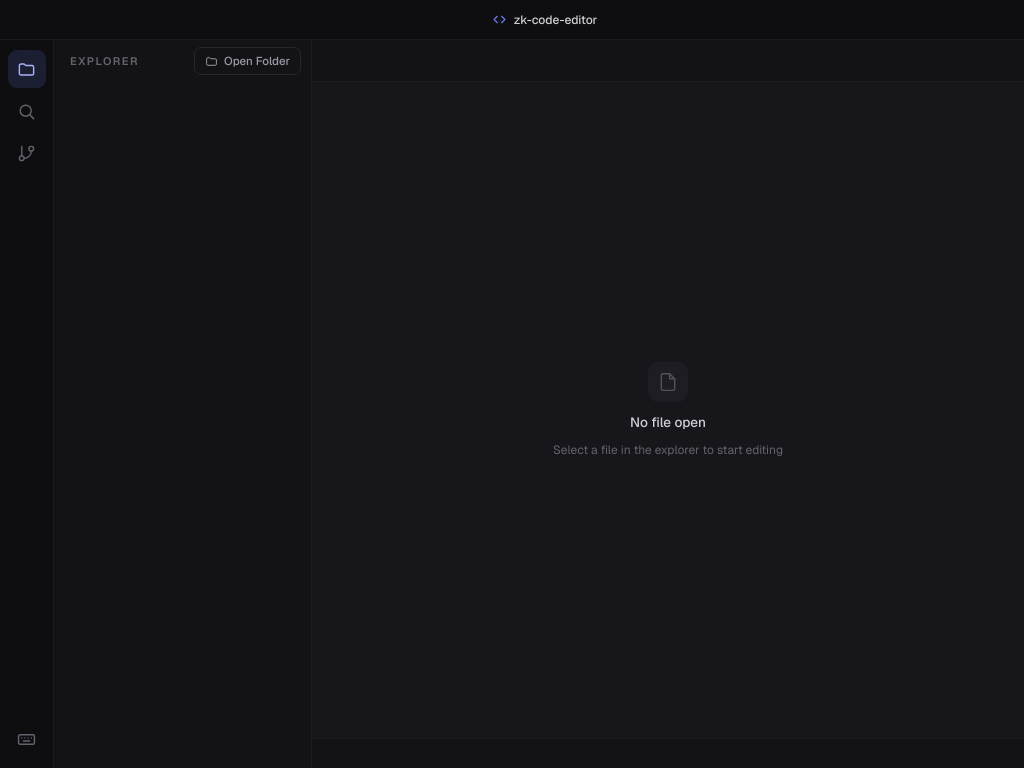
Test: App integration › shows a notice when saving fails
This screenshot has width=1024, height=768.
Step 1. Click the button "Open Folder" → (248, 61), box [194,47,301,75]
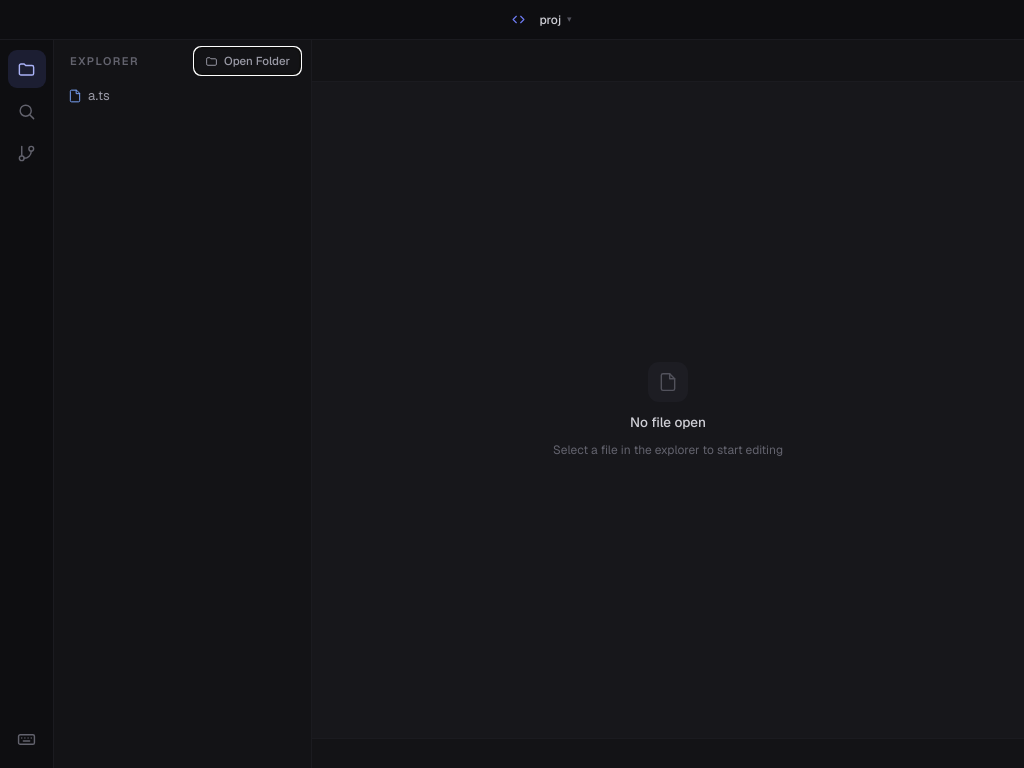
Step 2. Click the text "a.ts" → (99, 96), box [88,86,110,105]
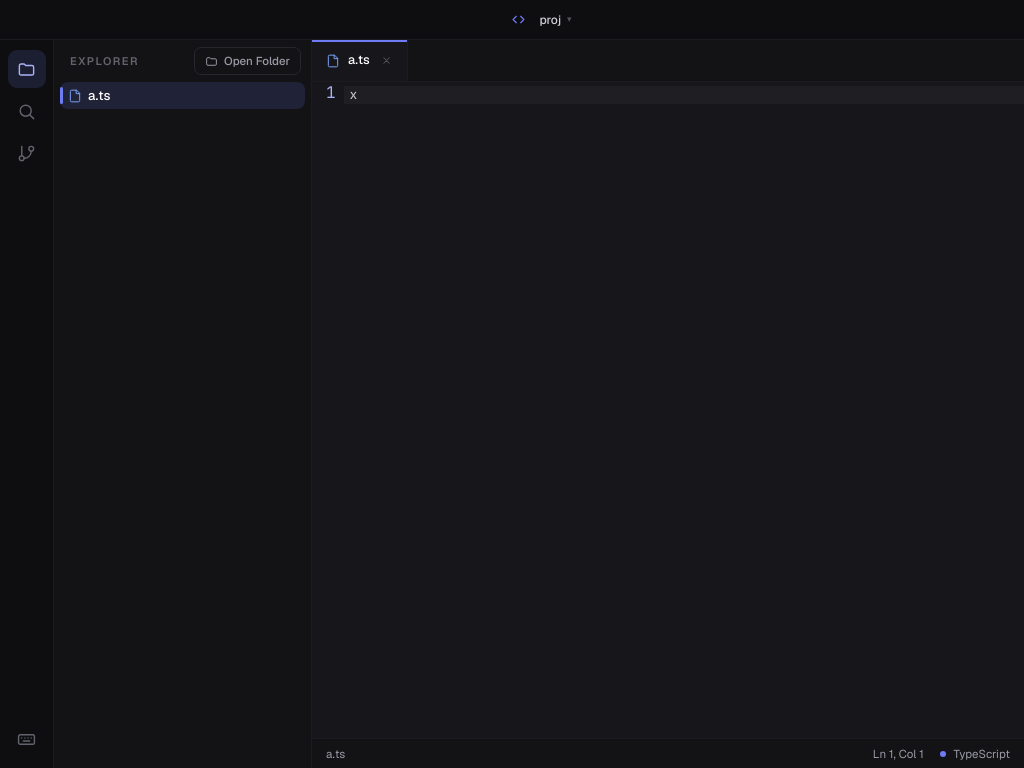
Step 3. Press s in the field with class "cm-content", box [344,86,1023,104]
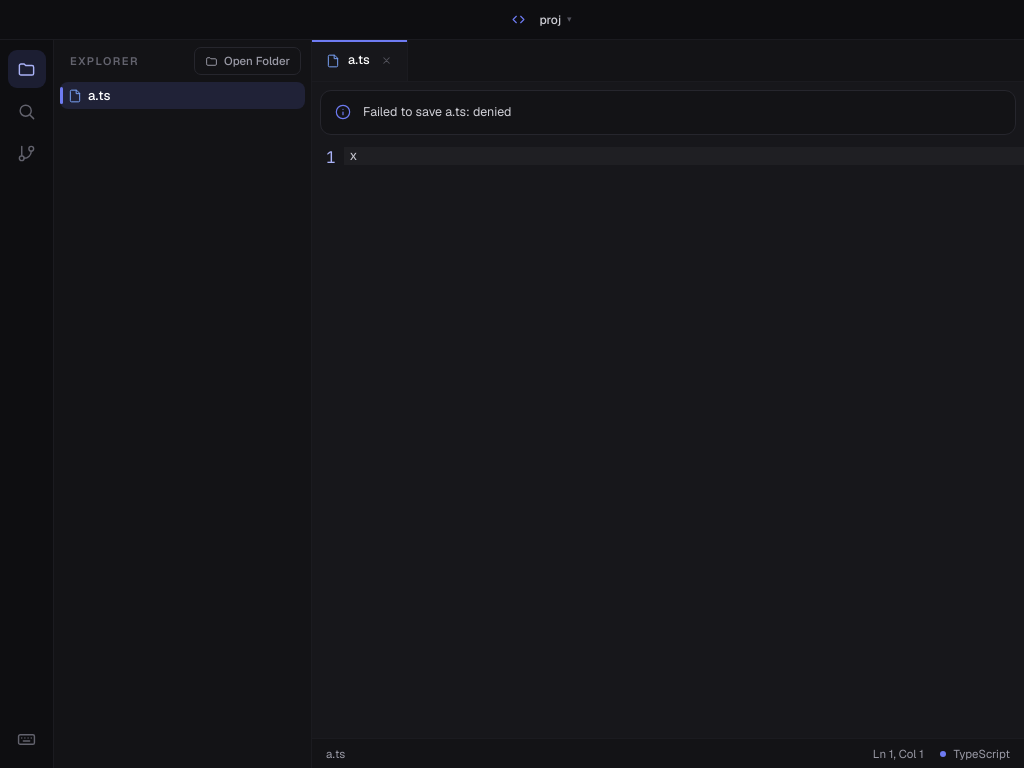
Now the text "Failed to save a.ts: denied" is shown, box [363,103,512,122]
